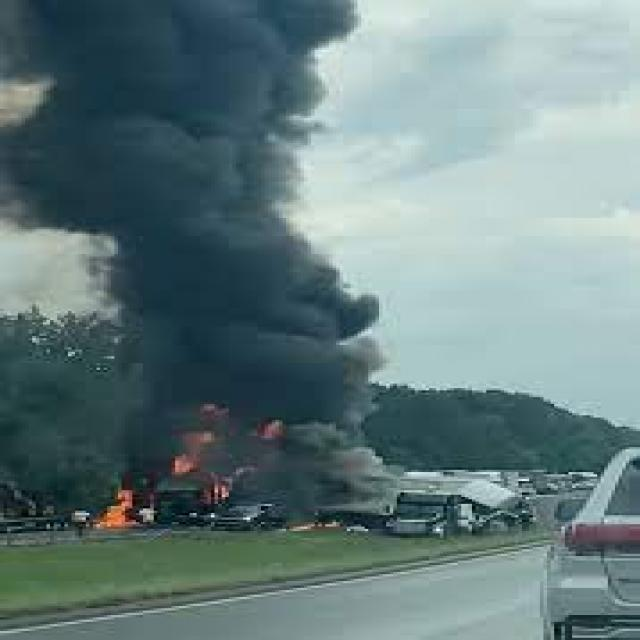fire: (172, 404, 243, 474), (96, 490, 136, 529), (257, 418, 286, 440)
smoke: (4, 2, 429, 492)
